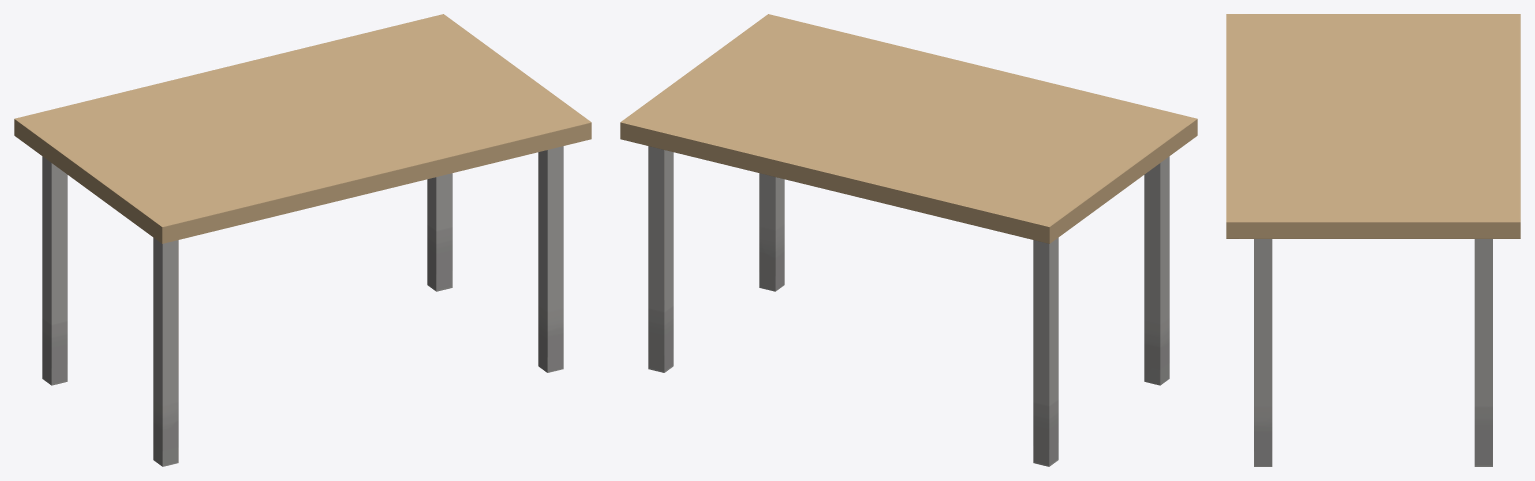
File: Table_Model.fbx
3 renders of one model, left to right at view 1: azimuth 30°, elevation 25°; view 2: azimuth 150°, elevation 25°; view 3: azimuth 270°, elevation 25°, orthographic.
Visible parts, largest first — view 1: Box001; view 2: Box001; view 3: Box001.
Boxes of the visible parts, x1=… form: Box001: x1=14, y1=14, x2=591, y2=466; Box001: x1=620, y1=14, x2=1197, y2=466; Box001: x1=1226, y1=14, x2=1520, y2=466.
Bounding box in the file's own units: 134 × 75.52 × 80.
Materials: 1 (1 with a texture image).
